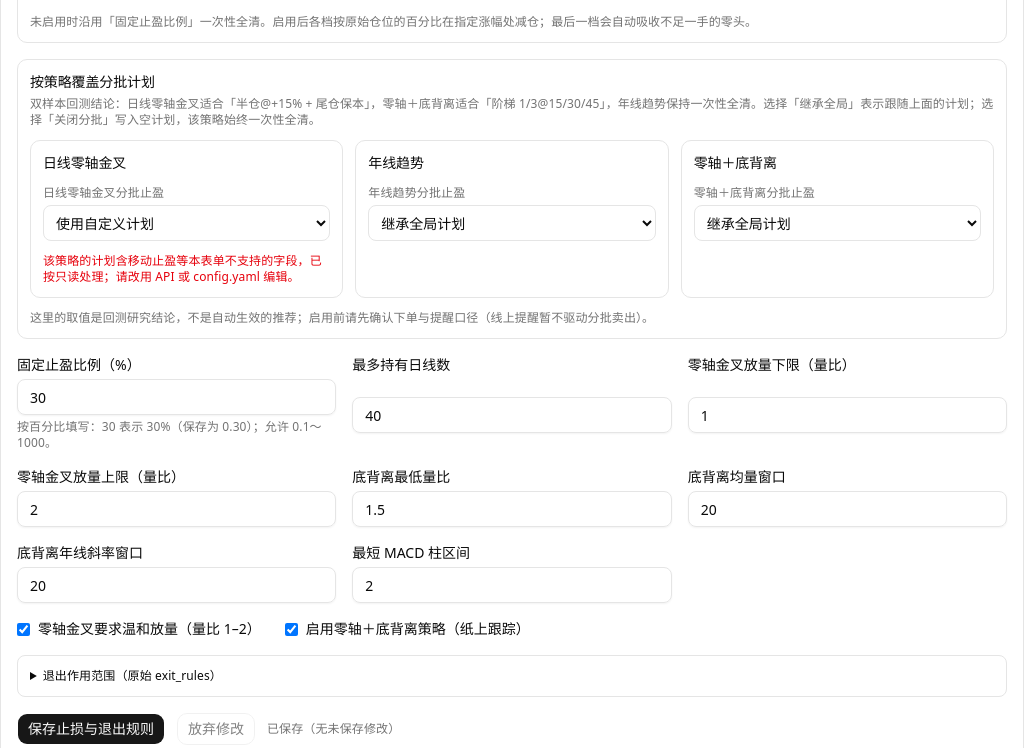
Test: per-strategy scale-out plans › refuses to save when the stored plan is unparseable instead of overwriting it
(page scrolled)
Click the button "保存止损与退出规则".
click(91, 729)  # box [17,713,165,745]
(page scrolled)
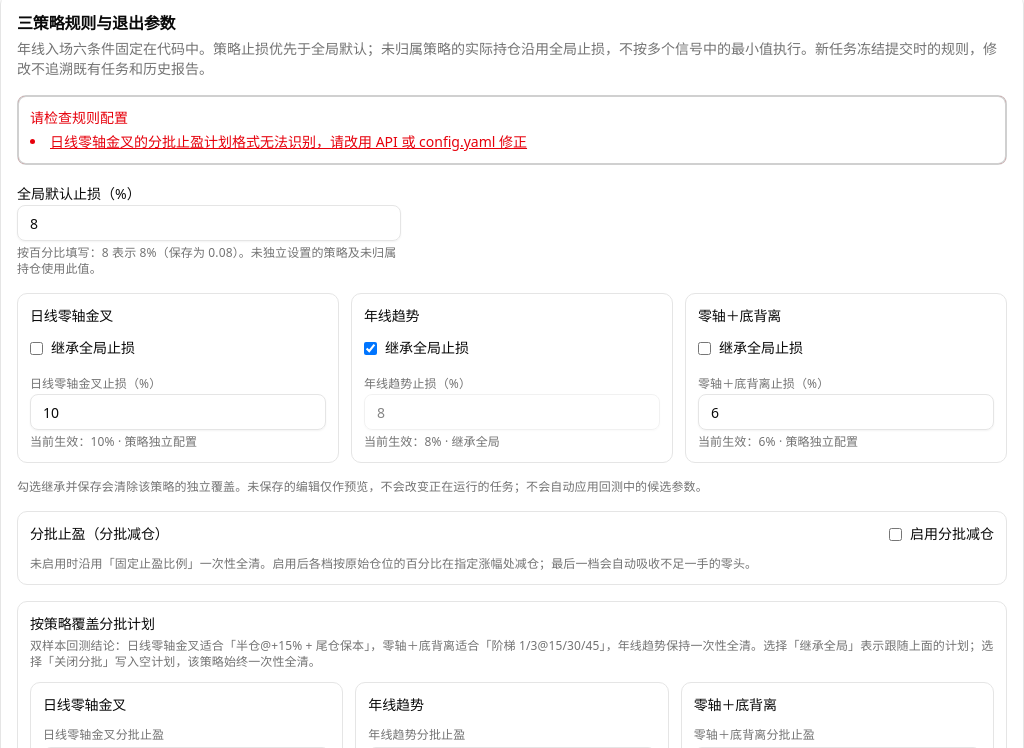
Expected: the text "分批止盈计划格式无法识别" is shown, [50,132,527,151]
